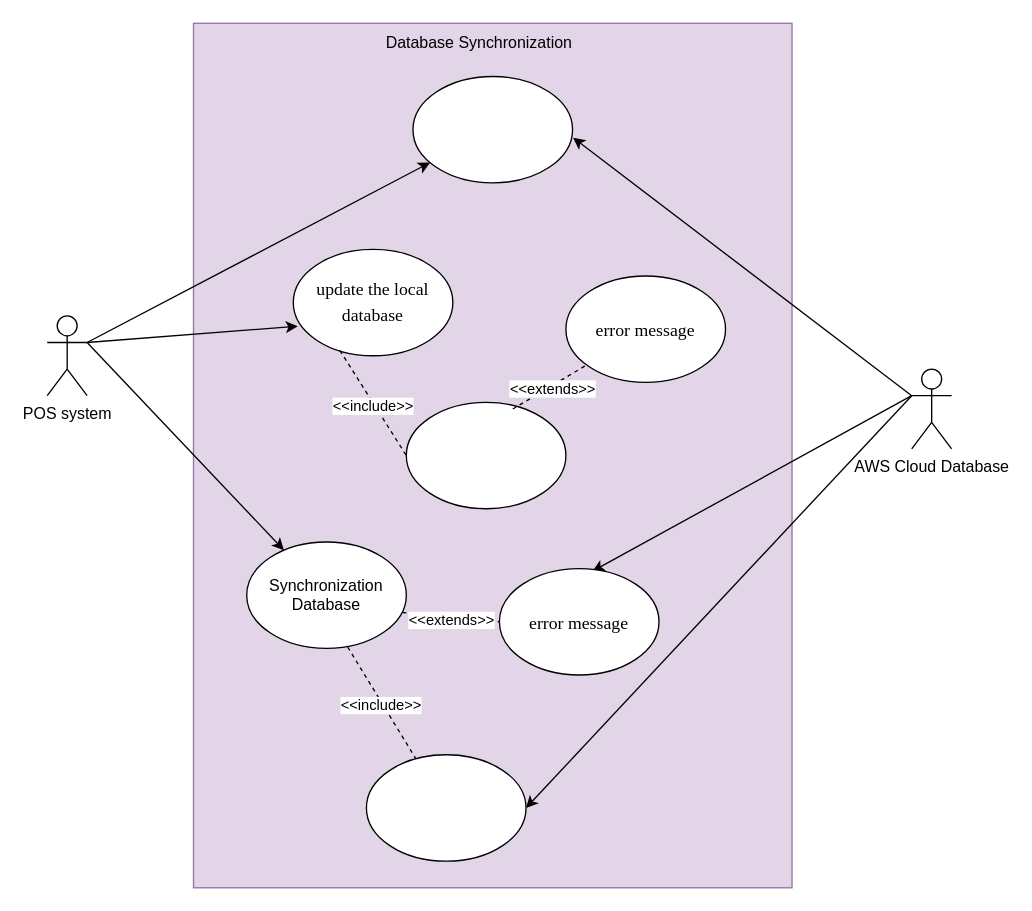
Some shapes in this 1032 by 911 pixel diagram are drawn without their labels. The centre of each missing label's shape, as x and y in pixels:
Create Copy of Database: the point at 485,455
Initiate the synchronization: the point at 492,129
Recieve Alerts Successfully synchronization: the point at 445,807
